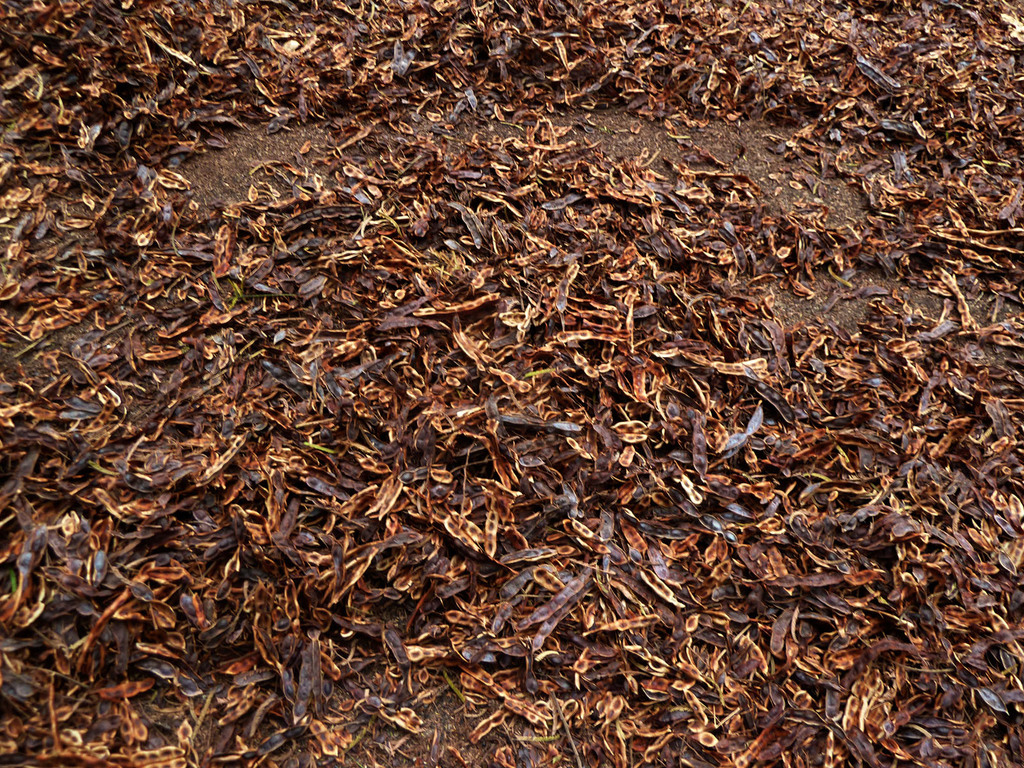person: (494, 561, 561, 598)
